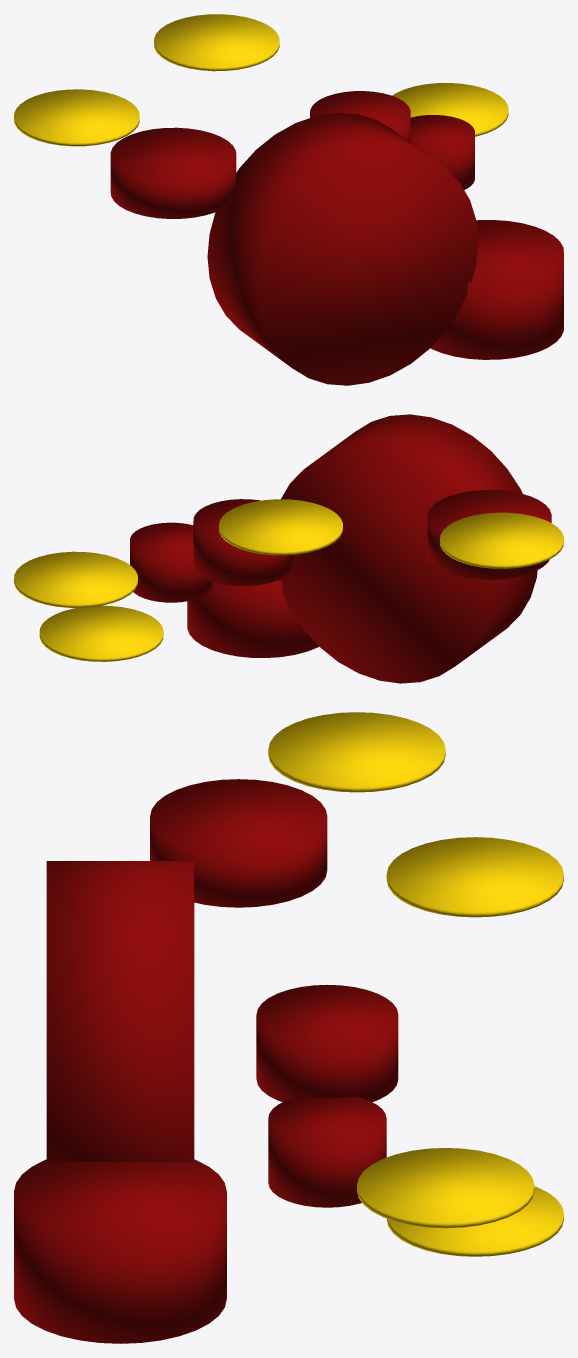
File: acoustic_kit.obj
The picture shows the model from 3 angles, top to bottom: view 1: azimuth 30°, elevation 25°; view 2: azimuth 150°, elevation 25°; view 3: azimuth 270°, elevation 25°; orthographic projection. The views are drawn at different scales.
Visible parts, largest first — view 1: Kick_Drum_Cylinder.048; view 2: Kick_Drum_Cylinder.048; view 3: Kick_Drum_Cylinder.048.
Part boxes in pixels (x1,y1,x2,y2): Kick_Drum_Cylinder.048: (14,14,563,385); Kick_Drum_Cylinder.048: (14,414,563,683); Kick_Drum_Cylinder.048: (14,712,563,1343).
Size of the model in its own units: 1.4 by 0.605 by 0.93.
